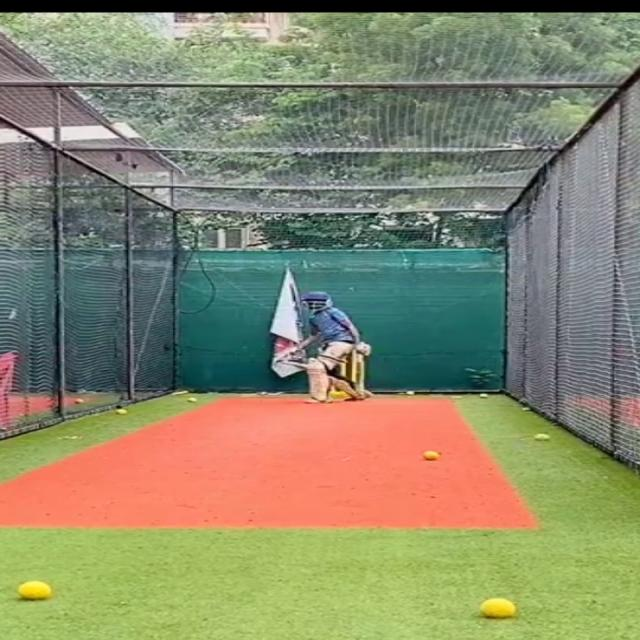ball: (473, 597, 518, 620), (9, 579, 54, 600), (418, 449, 441, 462), (531, 432, 550, 442), (70, 398, 88, 406), (114, 408, 127, 416), (403, 390, 416, 397), (476, 392, 489, 398), (186, 396, 198, 402)
stump: (338, 348, 358, 397)
